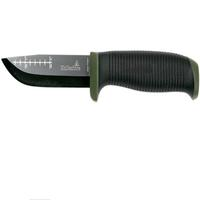knife: (2, 45, 200, 104)
